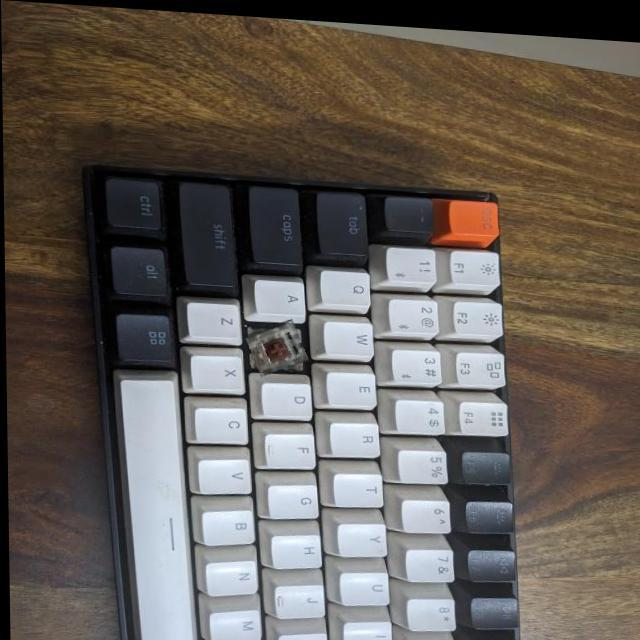key-switch: (245, 317, 304, 372)
